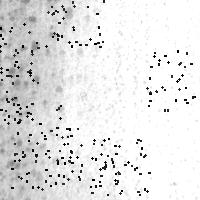pitted_surface: (79, 1, 160, 197), (1, 1, 72, 198), (11, 132, 71, 188), (90, 138, 148, 194), (14, 105, 71, 161), (146, 50, 200, 109), (62, 128, 115, 183), (45, 0, 103, 46), (0, 64, 37, 122), (0, 23, 37, 77)
